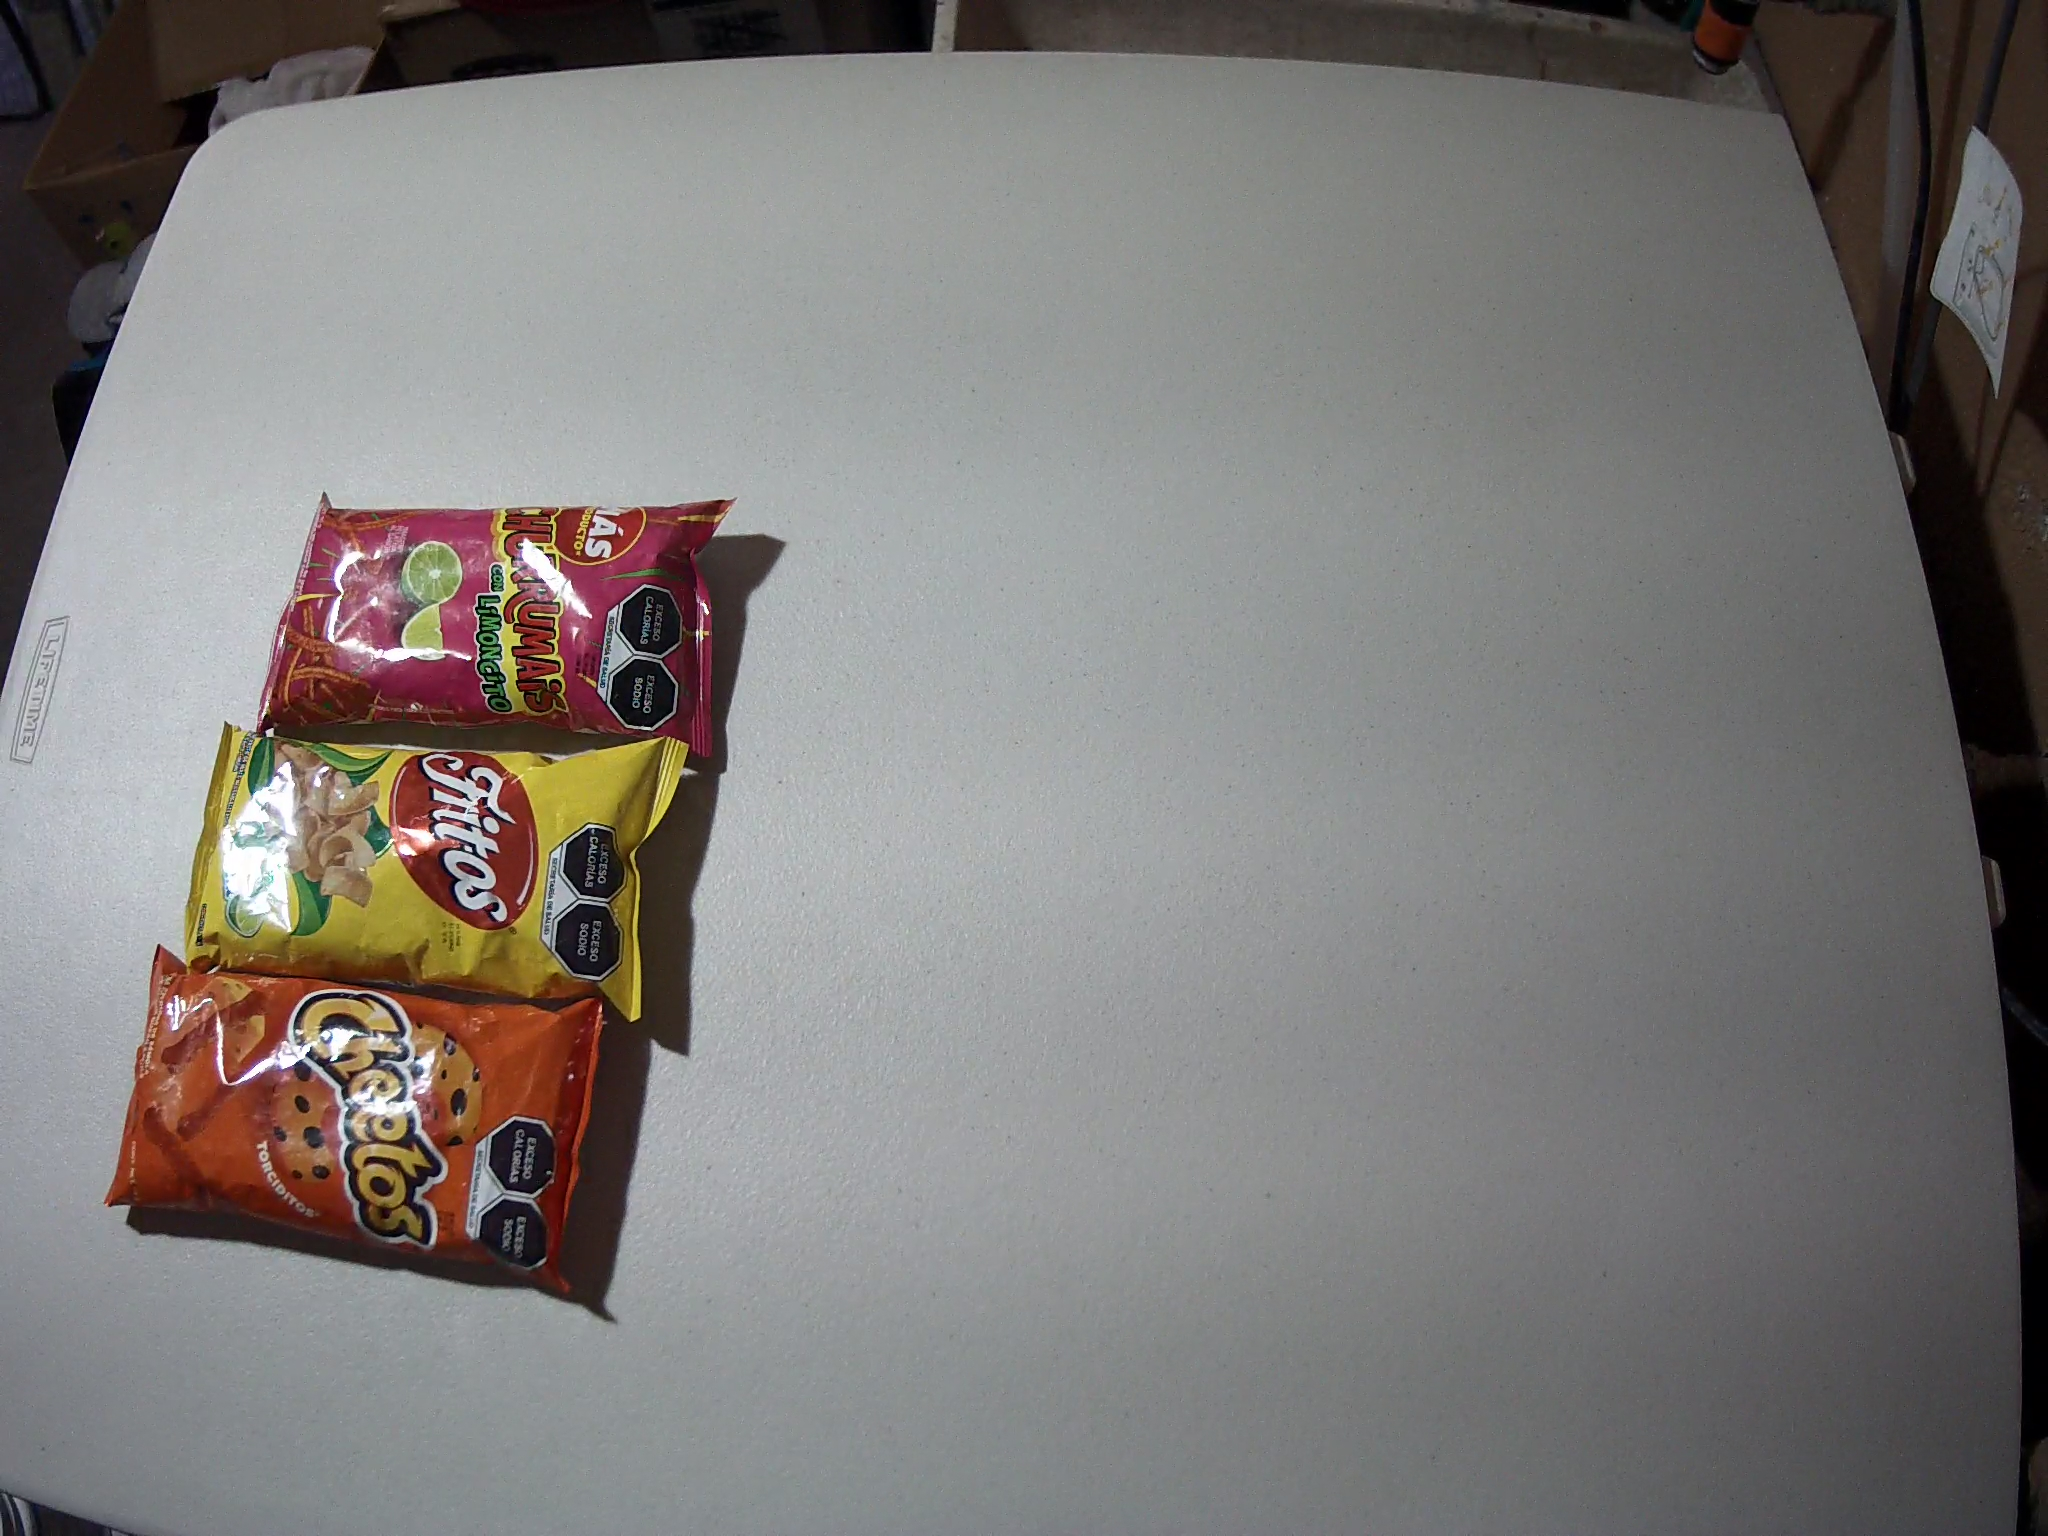CheetosTorciditos_55_F: (103, 945, 605, 1292)
Churrumais_70_F: (253, 494, 739, 758)
FritosSalLimon_65_F: (181, 721, 692, 1025)
